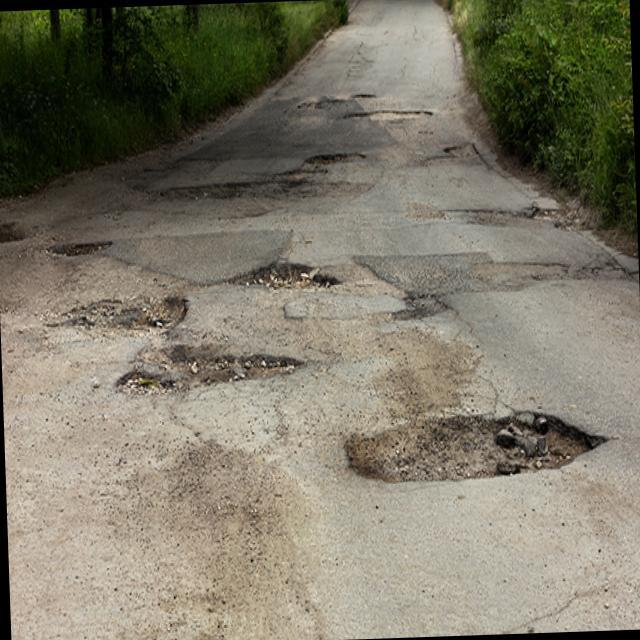Pothole: (336, 390, 622, 504), (386, 229, 640, 331), (148, 136, 381, 216), (189, 230, 375, 309), (110, 348, 318, 399), (408, 190, 588, 242), (44, 299, 202, 339), (408, 131, 496, 190), (306, 86, 397, 114), (346, 104, 439, 131), (39, 241, 134, 264), (0, 225, 30, 245)
